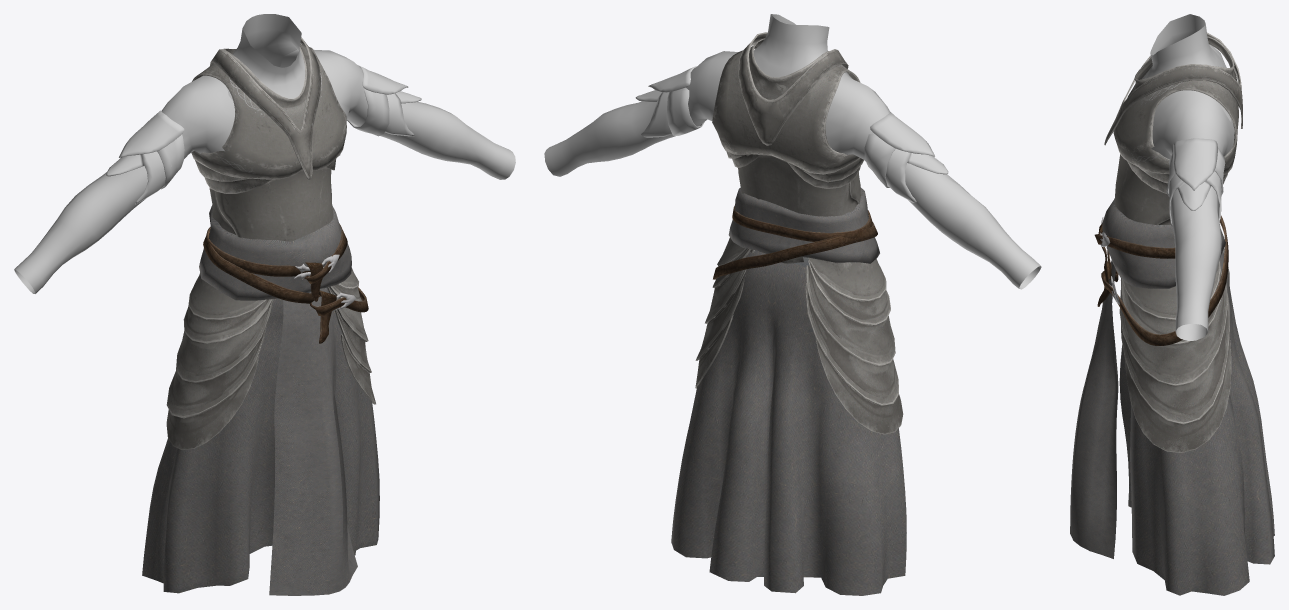
File: rivendell_torso_light_armored_tier3_silver.fbx
3 renders of one model, left to right at view 1: azimuth 30°, elevation 25°; view 2: azimuth 150°, elevation 25°; view 3: azimuth 270°, elevation 25°, orthographic. The views are drawn at different scales.
Parts seen in each view (by area): view 1: rivendell_torso_light_armored_tier3_silver.2, rivendell_torso_light_armored_tier3_silver.0, rivendell_torso_light_armored_tier3_silver.3, rivendell_torso_light_armored_tier3_silver.5, rivendell_torso_light_armored_tier3_silver.1, rivendell_torso_light_armored_tier3_silver.4; view 2: rivendell_torso_light_armored_tier3_silver.0, rivendell_torso_light_armored_tier3_silver.3, rivendell_torso_light_armored_tier3_silver.5, rivendell_torso_light_armored_tier3_silver.1, rivendell_torso_light_armored_tier3_silver.2, rivendell_torso_light_armored_tier3_silver.4; view 3: rivendell_torso_light_armored_tier3_silver.0, rivendell_torso_light_armored_tier3_silver.2, rivendell_torso_light_armored_tier3_silver.1, rivendell_torso_light_armored_tier3_silver.3, rivendell_torso_light_armored_tier3_silver.5, rivendell_torso_light_armored_tier3_silver.4.
Boxes of the visible parts, <box> form: rivendell_torso_light_armored_tier3_silver.2: <box>199,205,368,595</box>; rivendell_torso_light_armored_tier3_silver.0: <box>142,287,379,593</box>; rivendell_torso_light_armored_tier3_silver.3: <box>14,14,515,293</box>; rivendell_torso_light_armored_tier3_silver.5: <box>191,37,346,241</box>; rivendell_torso_light_armored_tier3_silver.1: <box>166,268,375,449</box>; rivendell_torso_light_armored_tier3_silver.4: <box>106,65,421,204</box>; rivendell_torso_light_armored_tier3_silver.0: <box>671,250,906,595</box>; rivendell_torso_light_armored_tier3_silver.3: <box>544,14,1041,289</box>; rivendell_torso_light_armored_tier3_silver.5: <box>712,32,863,263</box>; rivendell_torso_light_armored_tier3_silver.1: <box>695,237,903,434</box>; rivendell_torso_light_armored_tier3_silver.2: <box>713,187,879,279</box>; rivendell_torso_light_armored_tier3_silver.4: <box>635,66,948,202</box>; rivendell_torso_light_armored_tier3_silver.0: <box>1119,252,1274,595</box>; rivendell_torso_light_armored_tier3_silver.2: <box>1070,198,1228,558</box>; rivendell_torso_light_armored_tier3_silver.1: <box>1119,248,1231,452</box>; rivendell_torso_light_armored_tier3_silver.3: <box>1141,14,1234,340</box>; rivendell_torso_light_armored_tier3_silver.5: <box>1104,32,1242,225</box>; rivendell_torso_light_armored_tier3_silver.4: <box>1166,138,1225,226</box>.
Size of the model in its own units: 1.38 by 0.5129 by 1.46.
